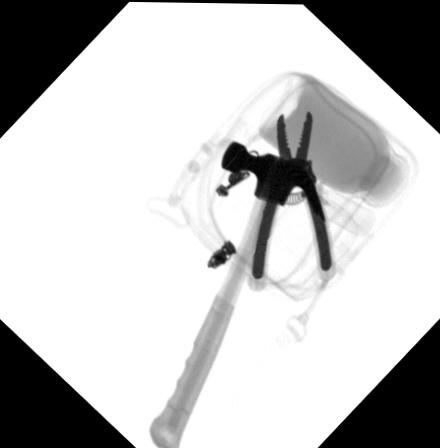Hammer: (145, 138, 324, 448)
Pliers: (245, 109, 336, 292)
